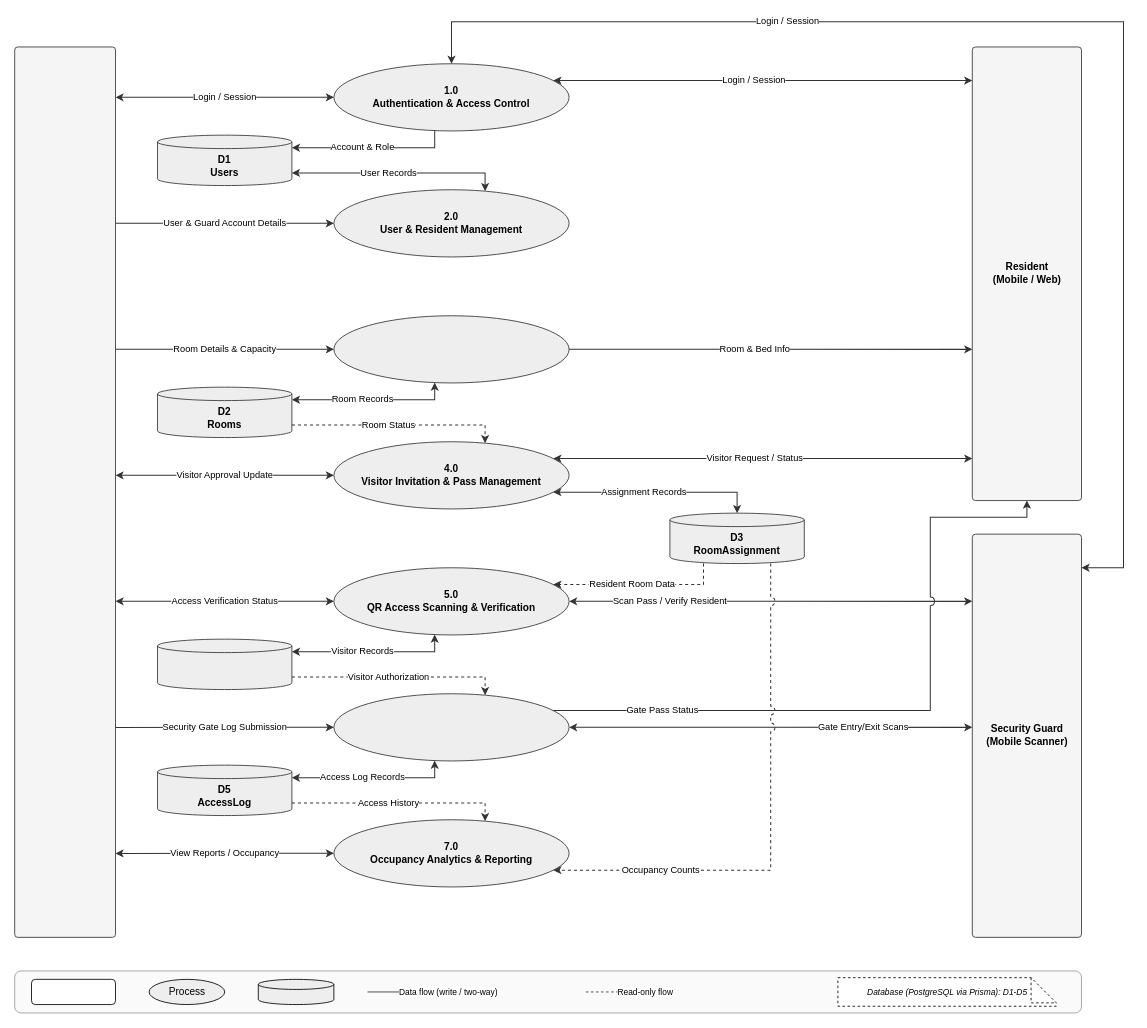
The diagram is 1147 pixels wide and 1028 high, and some of its shapes have lost their labels. Here are the shapes that lost their labels. From the top down, the box of each, then its label:
(333, 315, 569, 383): 3.0 Room & Assignment Management
(14, 46, 116, 937): Admin (Web)
(157, 638, 292, 690): D4 VisitorRequest
(333, 693, 569, 761): 6.0 Gate Access Logging & Audit
(31, 979, 116, 1005): External Entity
(257, 979, 334, 1005): Data Store
